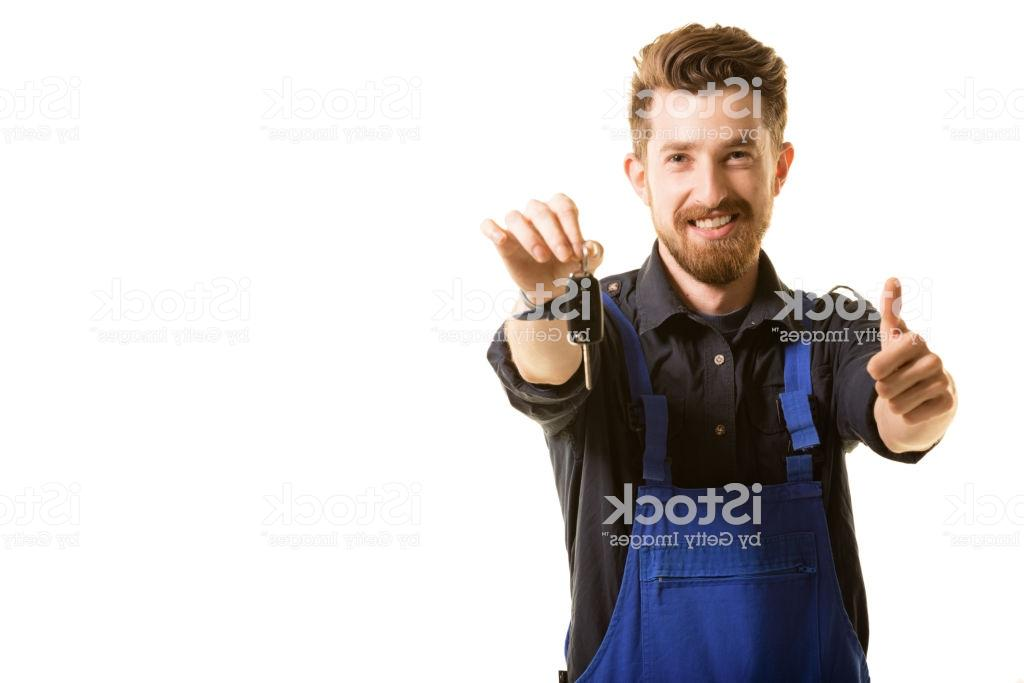thumbsup: (864, 275, 955, 430)
